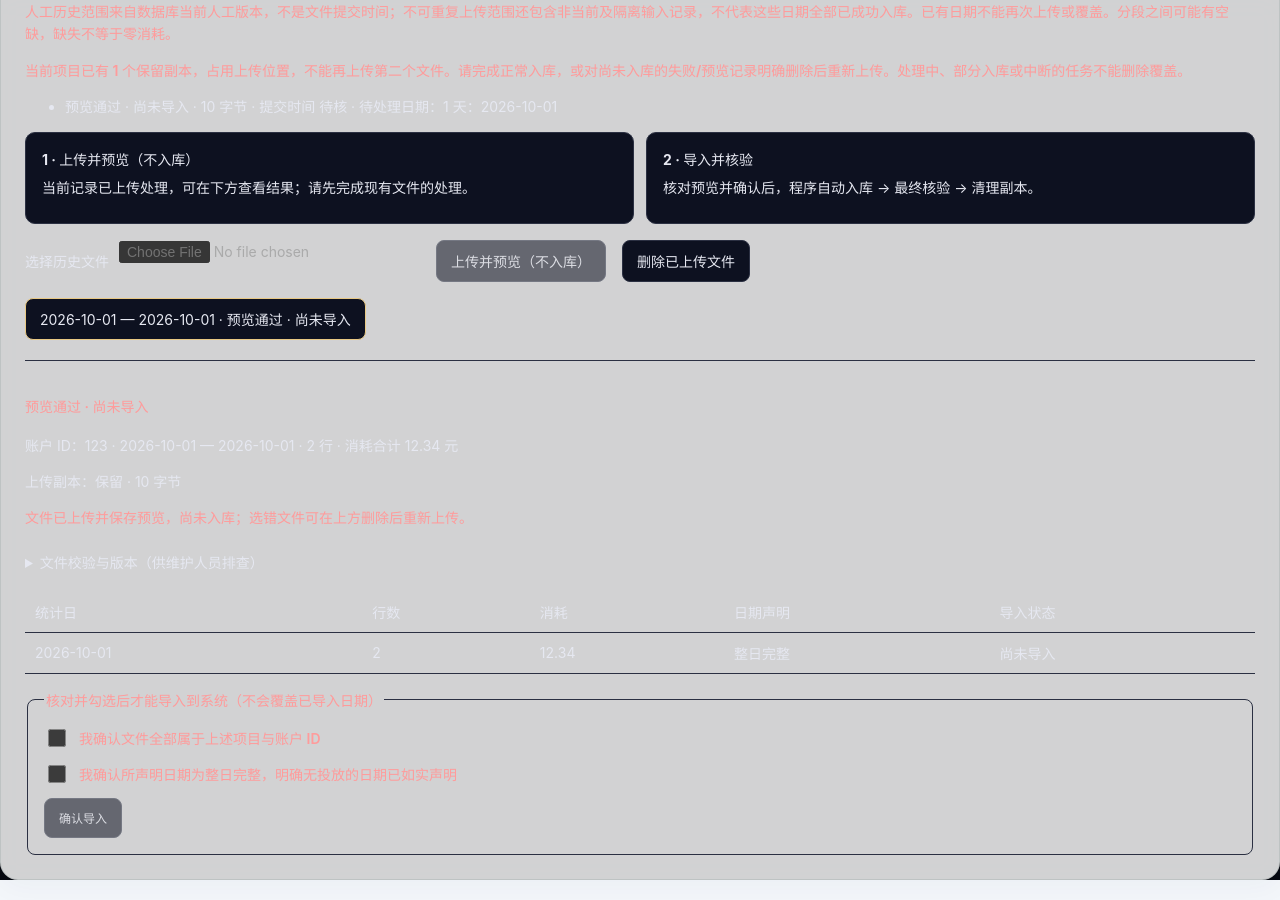
Test: history upload confirmation and isolation › stops polling after an explicit pre-execution refusal and clears confirmations
The width and height of the screenshot is (1280, 900).
(page scrolled)
Click the checkbox labelled "我确认文件全部属于上述项目与账户 ID": (57, 738) x1=48 y1=729 x2=66 y2=747
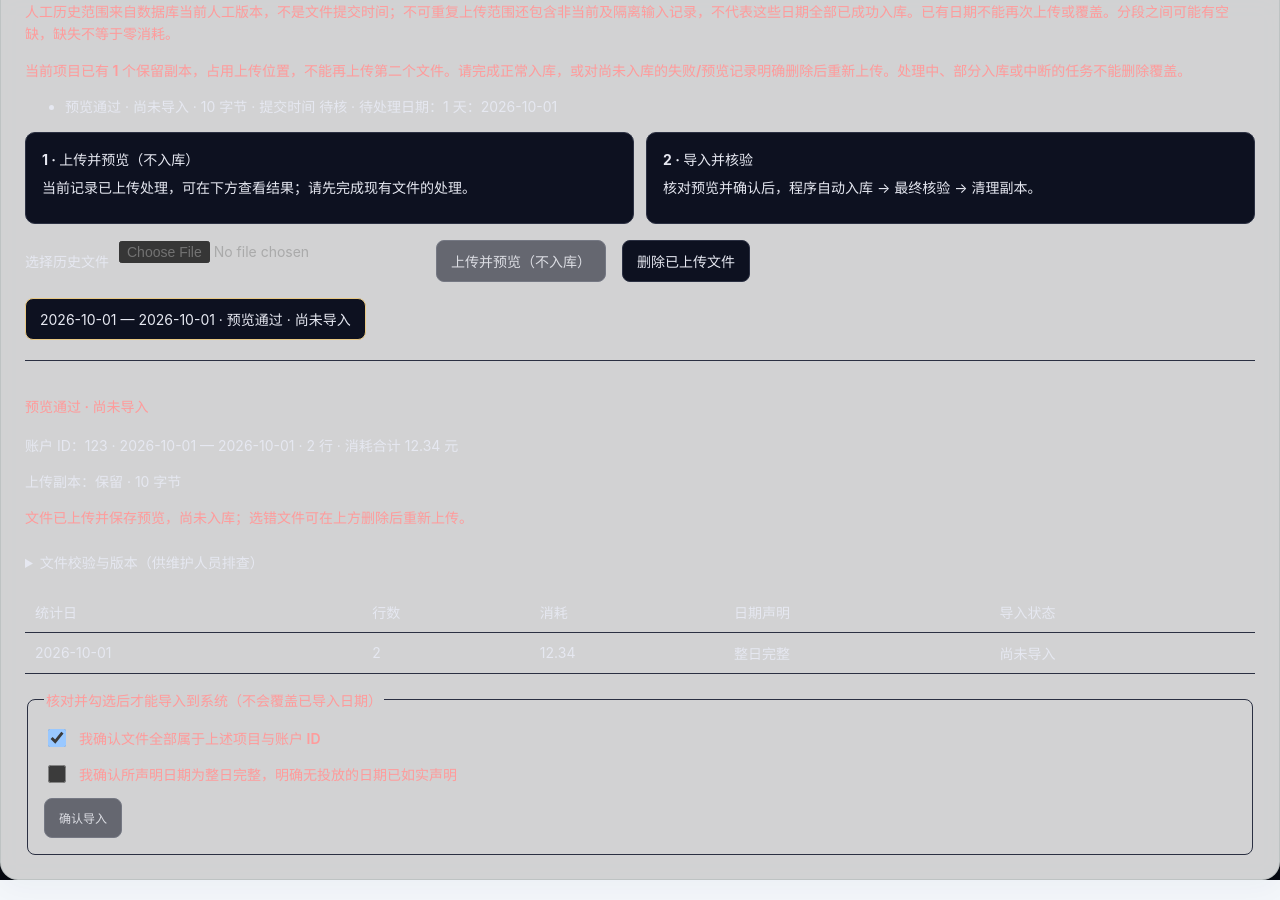
Click the checkbox labelled "我确认所声明日期为整日完整，明确无投放的日期已如实声明": (57, 774) x1=48 y1=765 x2=66 y2=783
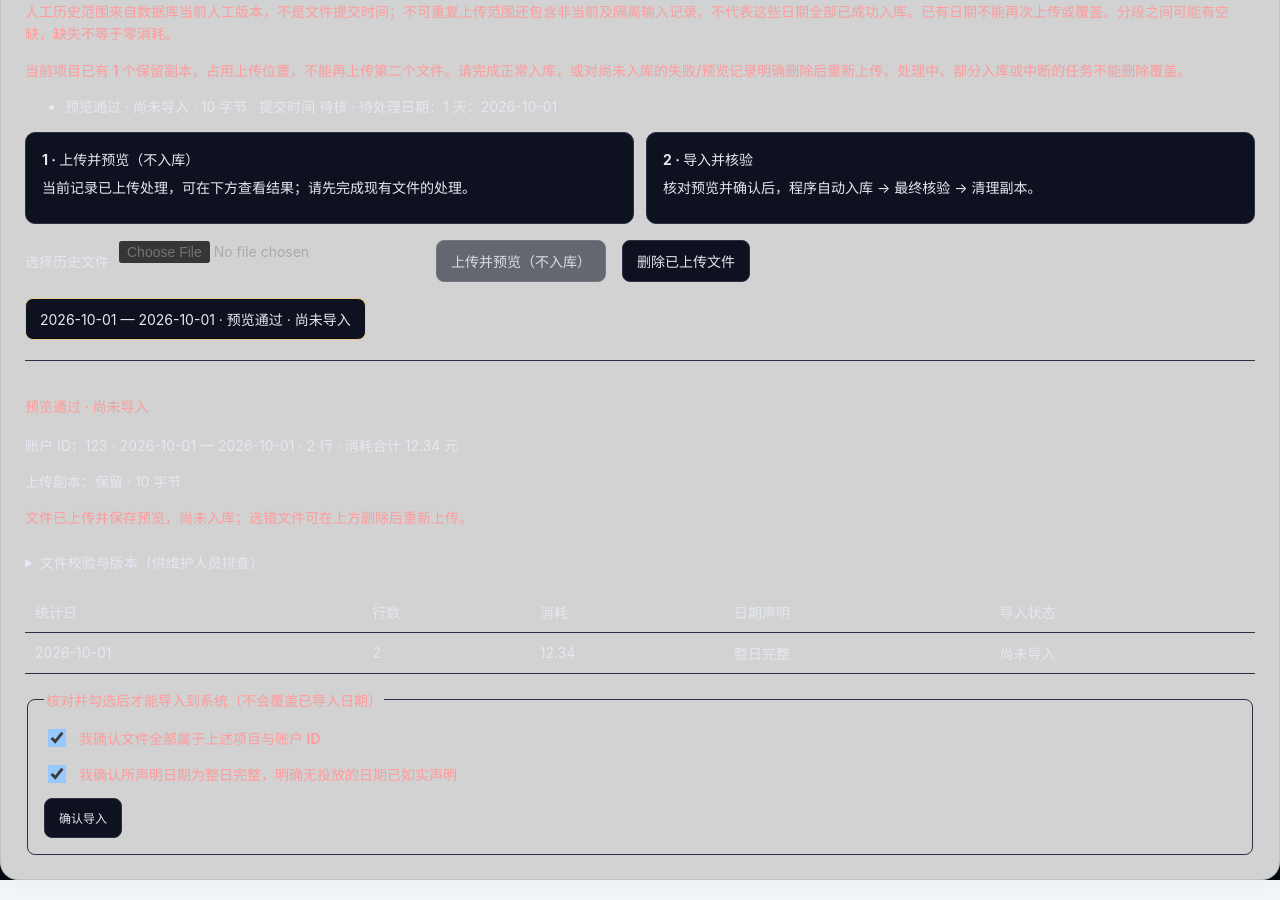
Click the button "确认导入": (83, 818) x1=44 y1=798 x2=122 y2=838
Wait 6000 ms
(page scrolled)
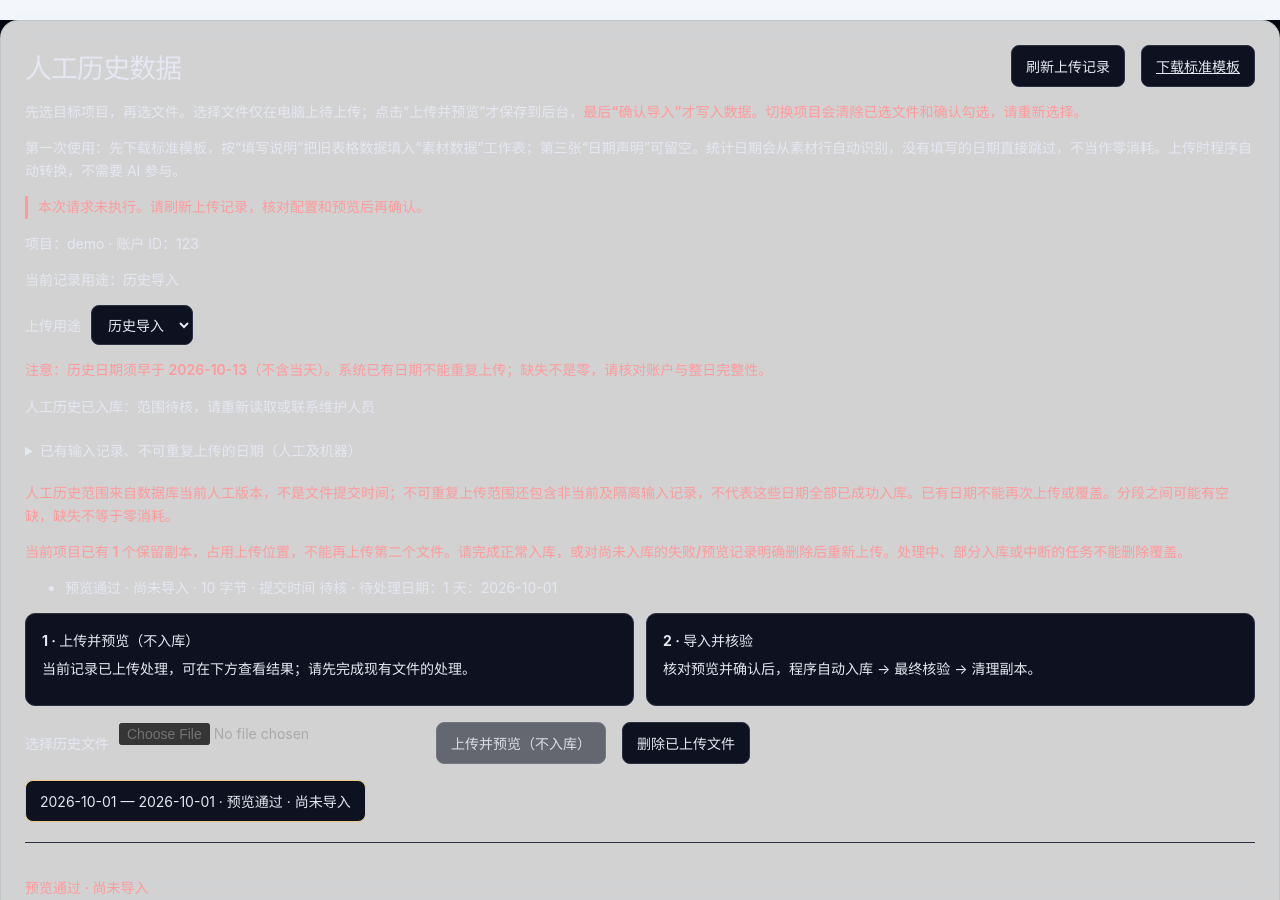
Check: the message "本次请求未执行。请刷新上传记录，核对配置和预览后再确认。" is shown, box x1=25 y1=196 x2=1255 y2=219
Click the button "刷新上传记录": (1068, 66) x1=1011 y1=45 x2=1125 y2=87
(page scrolled)
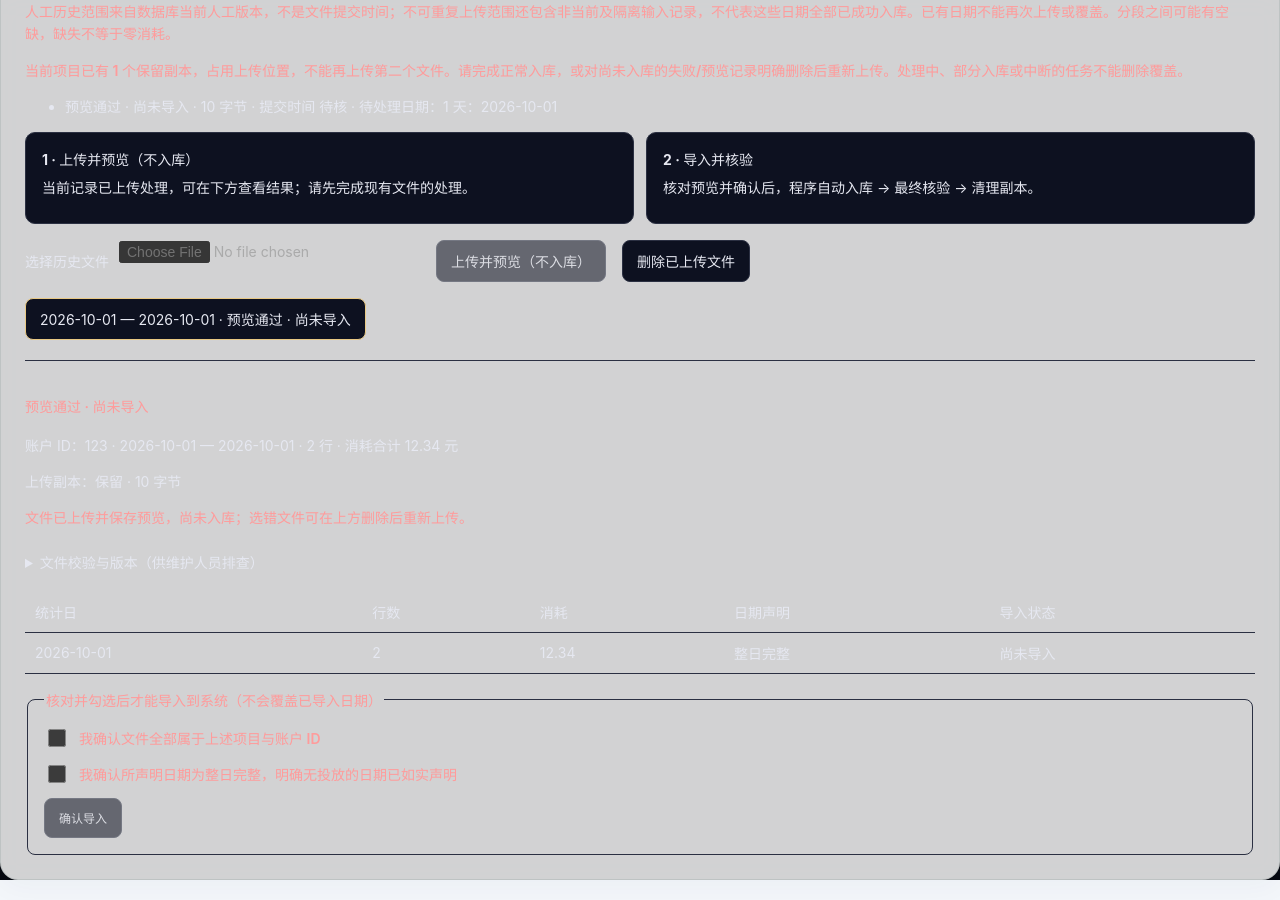
Click the checkbox labelled "我确认文件全部属于上述项目与账户 ID": (57, 738) x1=48 y1=729 x2=66 y2=747
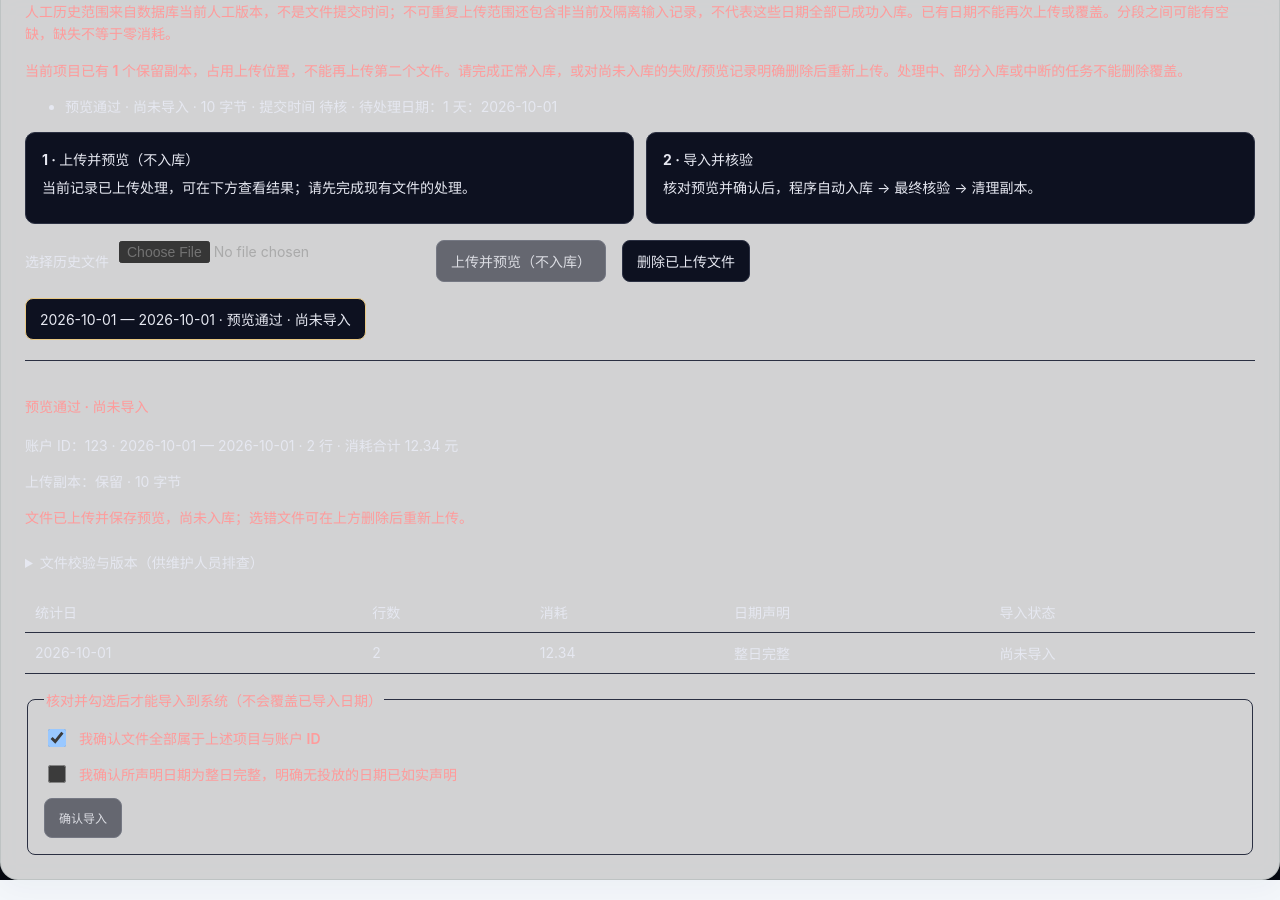
Click the checkbox labelled "我确认所声明日期为整日完整，明确无投放的日期已如实声明": (57, 774) x1=48 y1=765 x2=66 y2=783
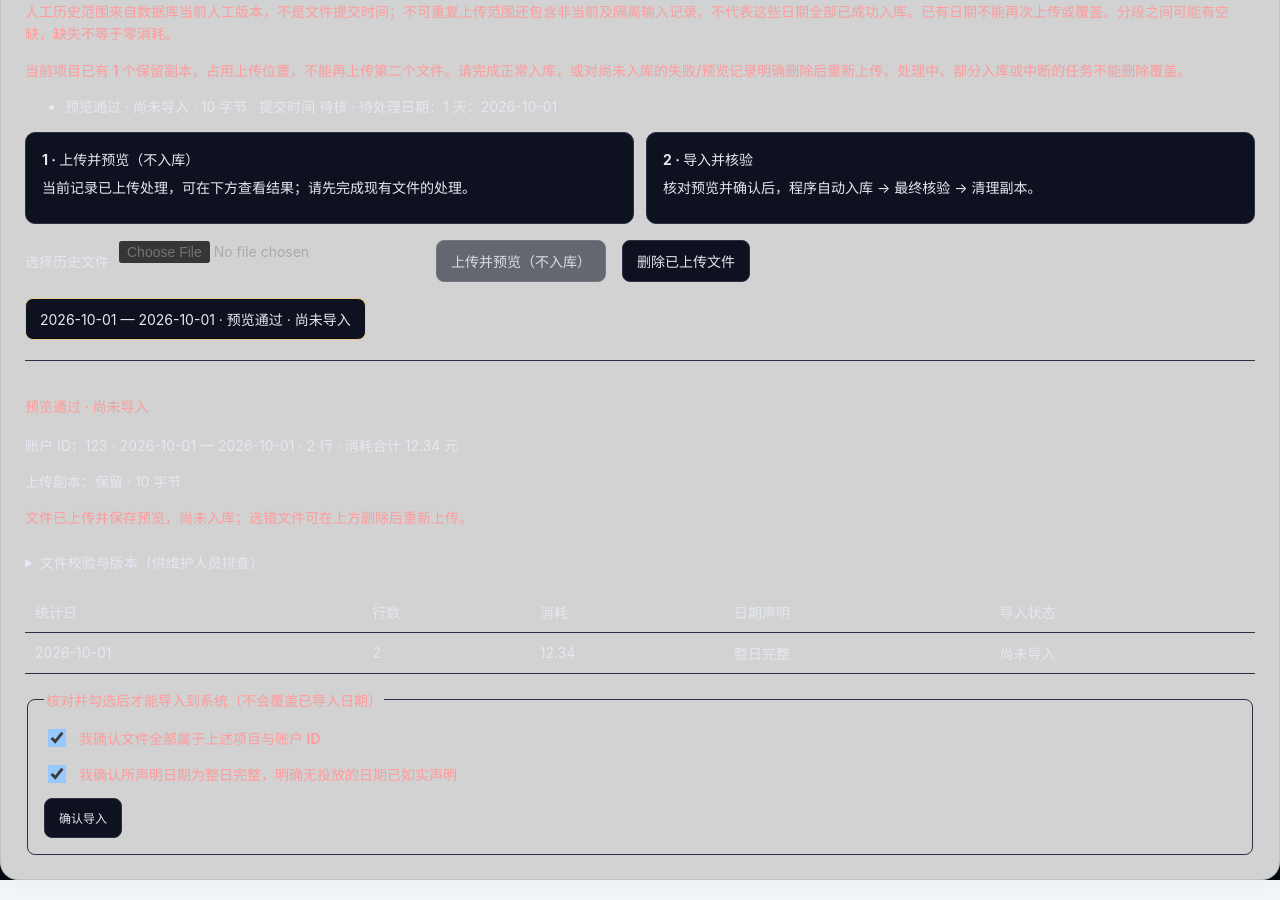
Check: the button "确认导入" is enabled, box x1=44 y1=798 x2=122 y2=838
